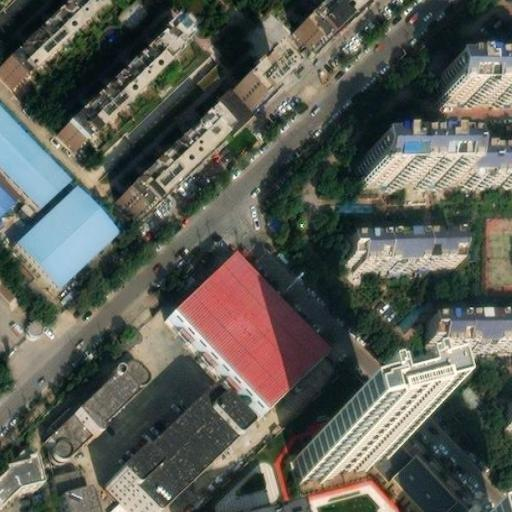building: (169, 251, 326, 409), (58, 17, 188, 146), (107, 388, 239, 512), (363, 407, 469, 512), (17, 176, 121, 280), (117, 114, 221, 216), (47, 350, 151, 452), (291, 425, 386, 477), (345, 229, 457, 264), (292, 0, 363, 48), (232, 50, 289, 107), (361, 145, 453, 180), (425, 310, 512, 345), (438, 69, 512, 99), (0, 451, 45, 499), (452, 147, 512, 180), (59, 479, 97, 512), (54, 460, 89, 487), (497, 395, 512, 435), (405, 179, 433, 195), (110, 496, 134, 512)
